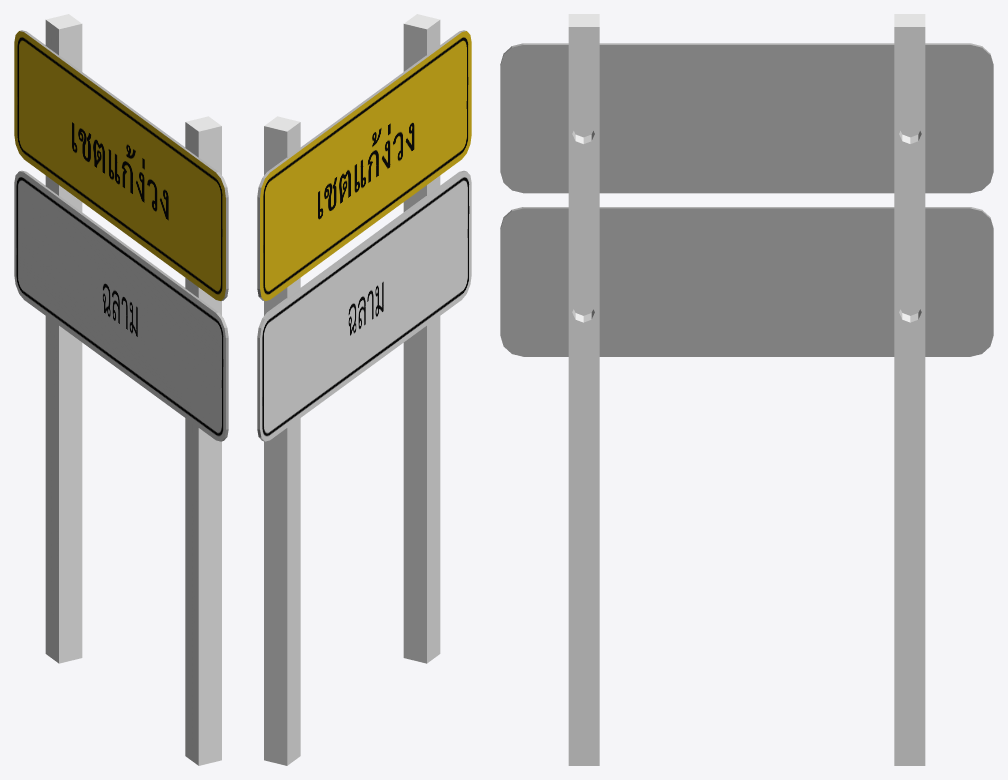
The model's file is SETSLEEP1A.glb.
3 renders of one model, left to right at view 1: azimuth 30°, elevation 25°; view 2: azimuth 150°, elevation 25°; view 3: azimuth 270°, elevation 25°, orthographic. The views are drawn at different scales.
Visible parts, largest first — view 1: Plane, Cube; view 2: Plane, Cube; view 3: Plane, Cube.
Boxes of the visible parts, x1,y1,x2,y2 form: Plane: (14, 30, 228, 441); Cube: (45, 14, 221, 765); Plane: (257, 30, 471, 441); Cube: (264, 14, 440, 765); Plane: (500, 43, 993, 356); Cube: (568, 14, 925, 765).
Bounding box in the file's own units: 0.3934 × 9.42 × 5.7.
Materials: 2 (1 with a texture image).
